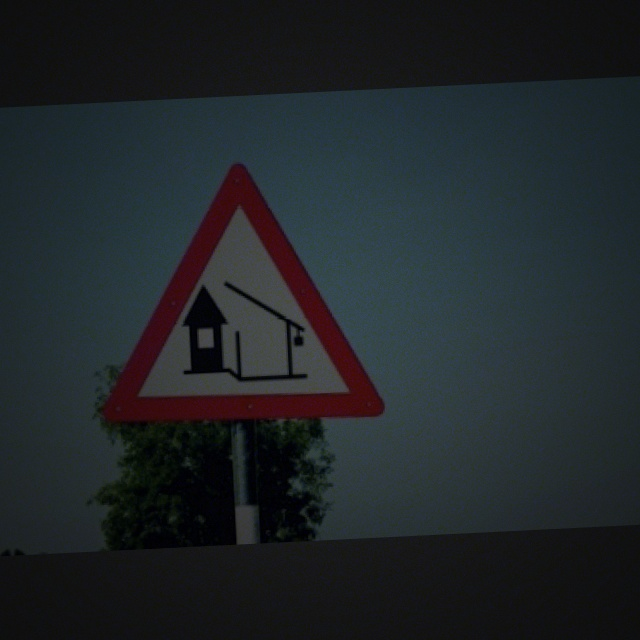Barrier_Ahead: (98, 153, 386, 433)
